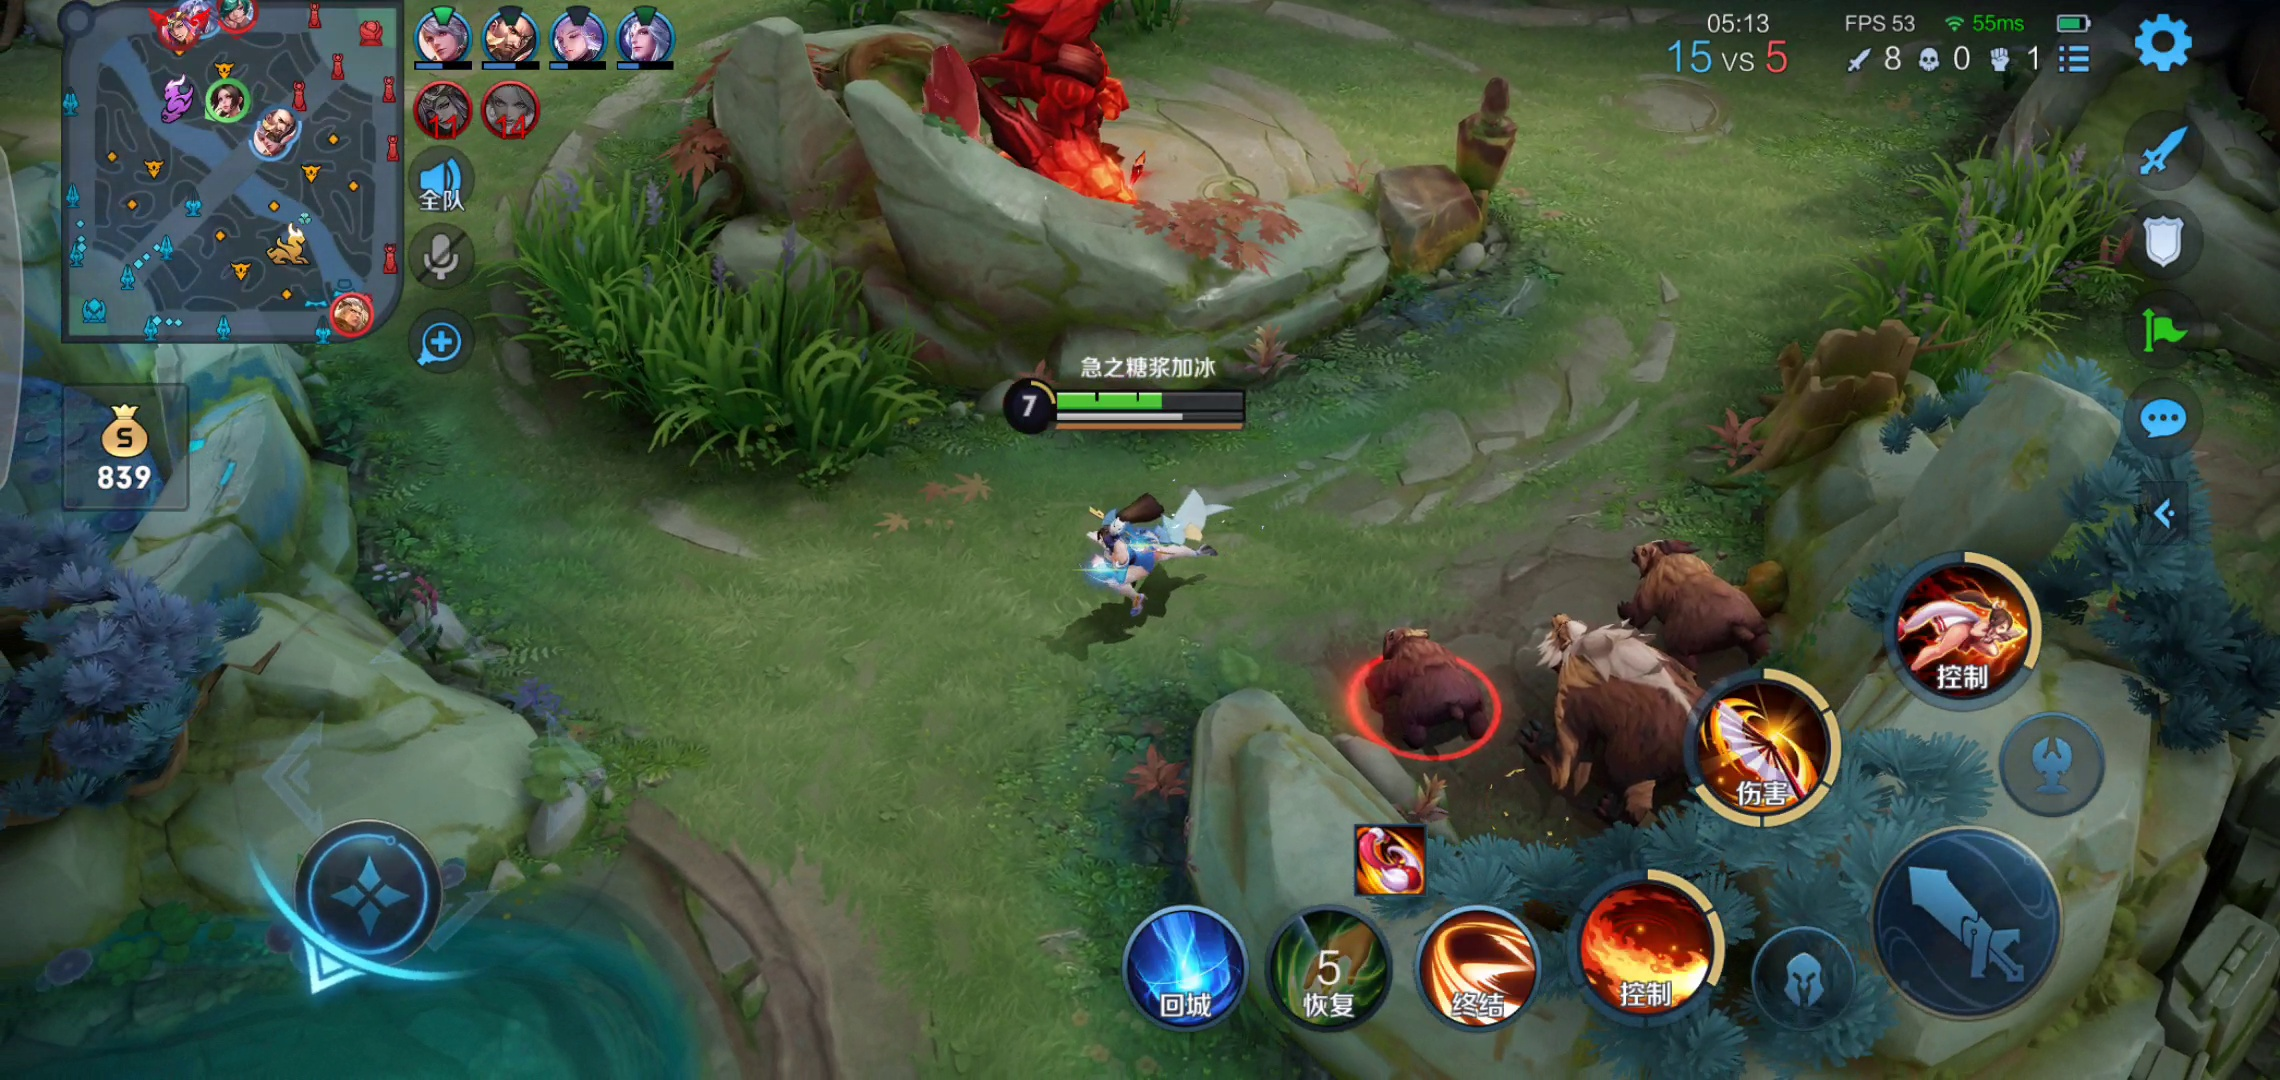buff: (926, 1, 1195, 222)
grass: (518, 180, 912, 475), (1831, 140, 2078, 392)
hero: (1051, 470, 1217, 635)
wild_monster: (1344, 517, 1834, 824)
